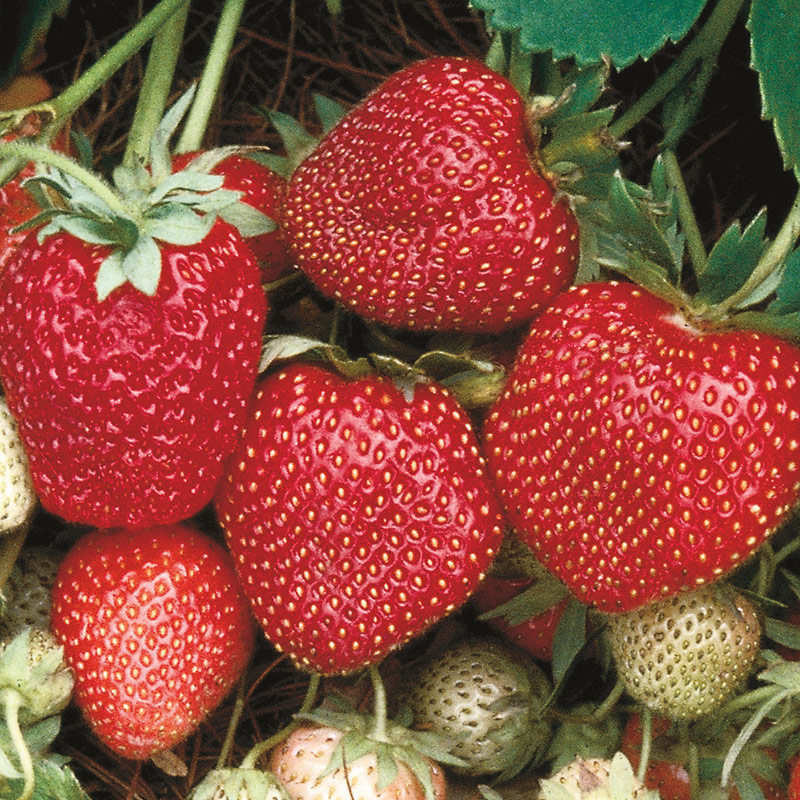ripe_strawberry: (479, 262, 800, 617), (206, 343, 506, 686), (1, 189, 273, 529), (281, 48, 585, 336), (50, 524, 261, 764), (154, 140, 298, 284), (618, 700, 800, 800), (469, 536, 595, 669)
unripe_strawberry: (404, 640, 568, 780), (604, 581, 763, 717), (274, 707, 452, 800), (1, 522, 72, 637), (1, 396, 36, 535), (194, 768, 296, 800)
